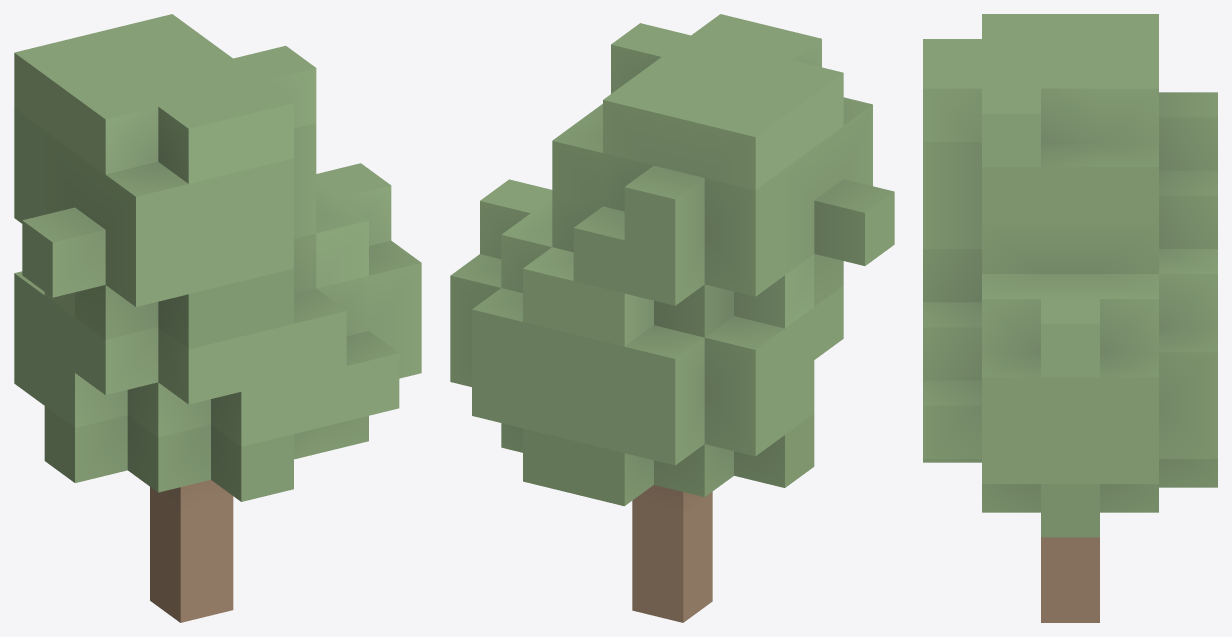
File: decor_tree_b.glb
3 renders of one model, left to right at view 1: azimuth 30°, elevation 25°; view 2: azimuth 150°, elevation 25°; view 3: azimuth 270°, elevation 25°, orthographic. The views are drawn at different scales.
Visible parts, largest first — view 1: decor_tree_b; view 2: decor_tree_b; view 3: decor_tree_b.
Boxes of the visible parts, bbox=[...] form: decor_tree_b: bbox=[14, 14, 421, 622]; decor_tree_b: bbox=[450, 14, 894, 622]; decor_tree_b: bbox=[923, 14, 1217, 622].
Size of the model in its own units: 0.875 by 1.25 by 0.625.
